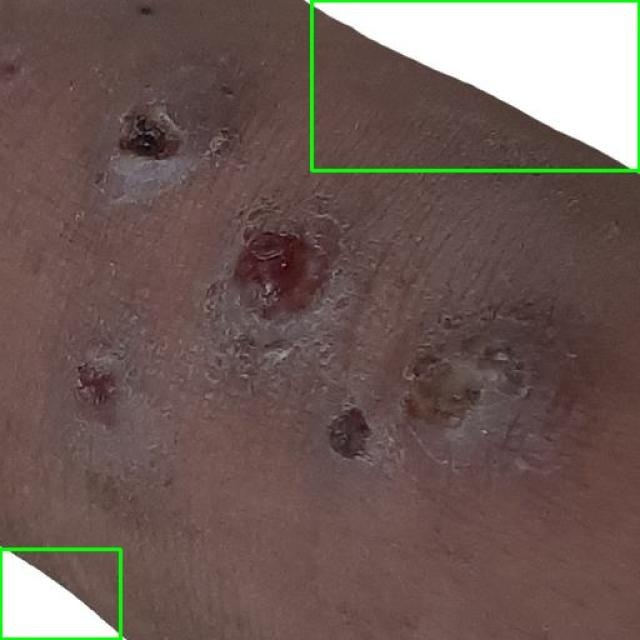Scabies: (311, 0, 639, 170), (0, 549, 121, 639)
